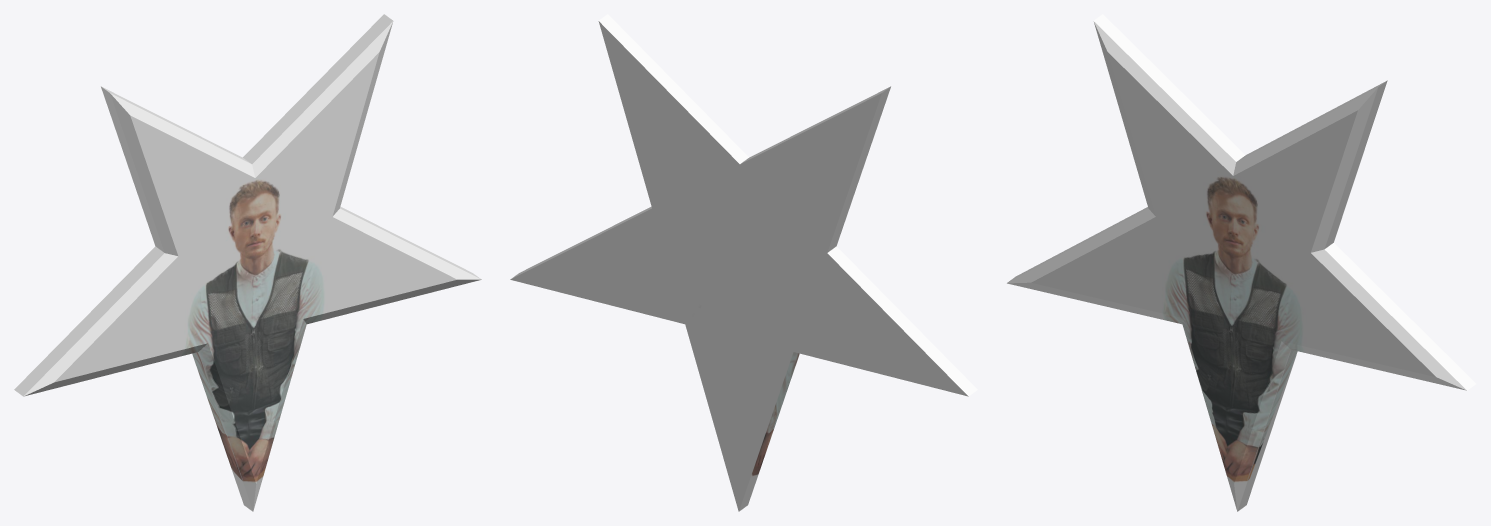
File: STAR-MASK3.glb
3 views of the same model, side by side, from view 1: azimuth 30°, elevation 25°; view 2: azimuth 150°, elevation 25°; view 3: azimuth 330°, elevation 25° (orthographic).
Parts seen in each view (by area): view 1: STAR; view 2: STAR; view 3: STAR.
Boxes of the visible parts, left/top/right/bottom form: STAR: left=14, top=14, right=481, bottom=511; STAR: left=510, top=14, right=977, bottom=511; STAR: left=1007, top=14, right=1475, bottom=511.
Bounding box in the file's own units: 0.1364 × 0.1298 × 0.00641.
1 material, 1 textured.
